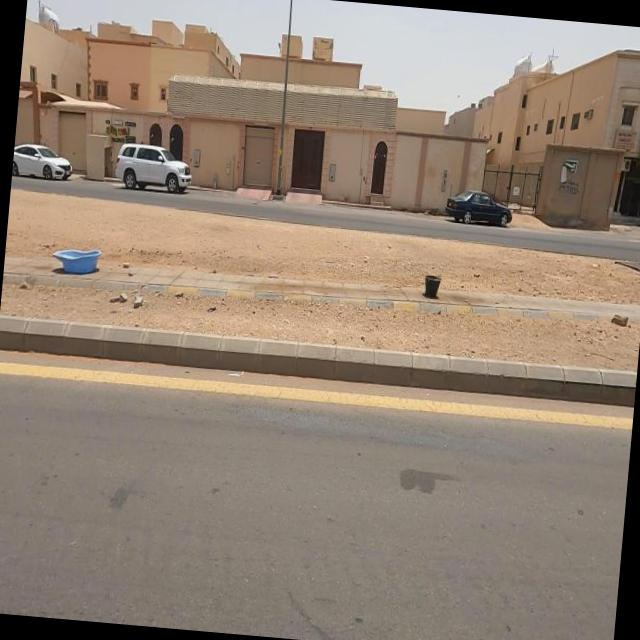debris: (14, 210, 138, 312), (397, 240, 479, 330), (586, 280, 640, 354)
